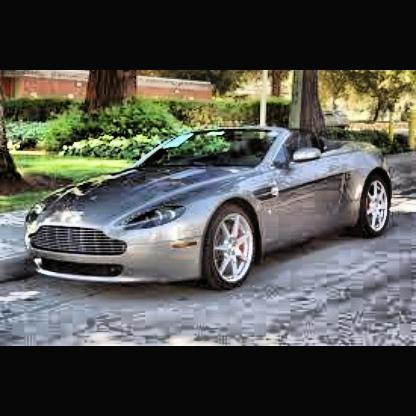Aston Martin V8 Vantage Convertible 2012: (28, 124, 398, 290)
